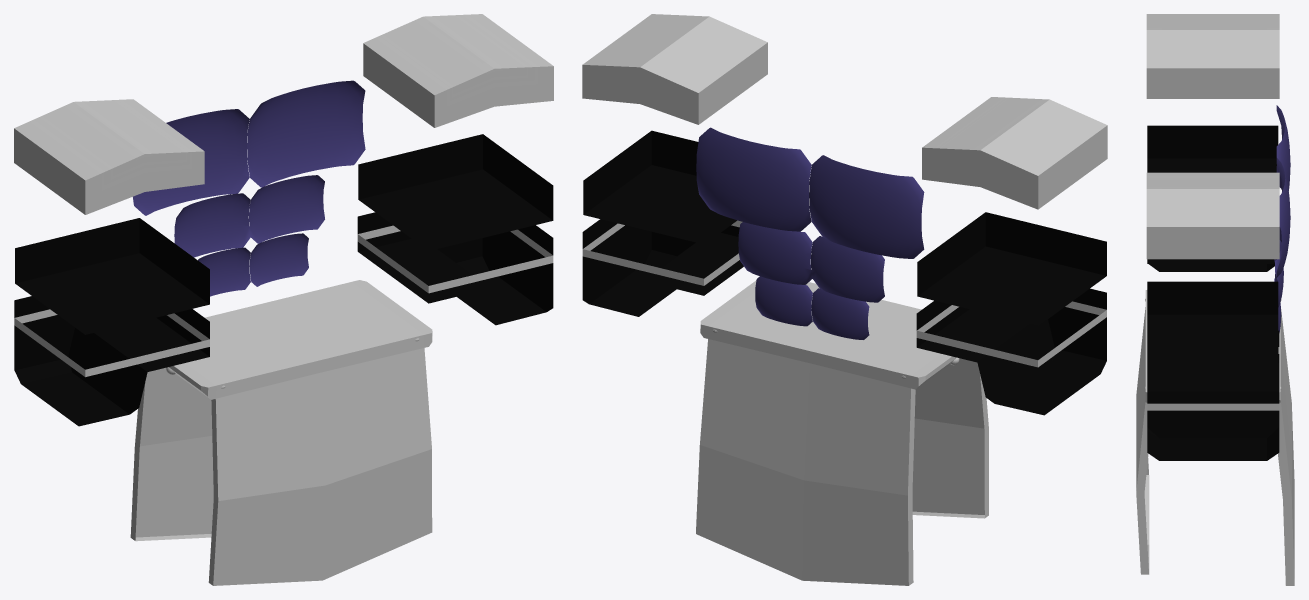
The model's file is Star Platinum.obj.
The picture shows the model from 3 angles, left to right: view 1: azimuth 30°, elevation 25°; view 2: azimuth 150°, elevation 25°; view 3: azimuth 270°, elevation 25°; orthographic projection. The views are drawn at different scales.
Visible parts, largest first — view 1: SP_Belt, SP_R_Arm, SP_L_Arm, SP_Torso; view 2: SP_Belt, SP_R_Arm, SP_L_Arm, SP_Torso; view 3: SP_L_Arm, SP_R_Arm, SP_Belt, SP_Torso.
Part boxes in pixels (box(x1,y1,x2,y2)): SP_Belt: box(130, 280, 432, 585); SP_R_Arm: box(14, 99, 209, 426); SP_L_Arm: box(357, 14, 553, 325); SP_Torso: box(133, 80, 365, 296); SP_Belt: box(696, 280, 988, 585); SP_R_Arm: box(916, 97, 1107, 415); SP_L_Arm: box(582, 14, 767, 316); SP_Torso: box(696, 127, 924, 339); SP_L_Arm: box(1146, 172, 1279, 460); SP_R_Arm: box(1146, 14, 1279, 271); SP_Belt: box(1136, 290, 1294, 585); SP_Torso: box(1274, 105, 1290, 332).
Bounding box in the file's own units: 4.05 × 3.96 × 1.27.
